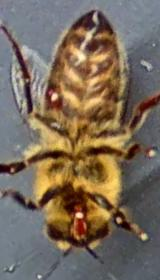varroa_mite: (42, 80, 72, 110)
